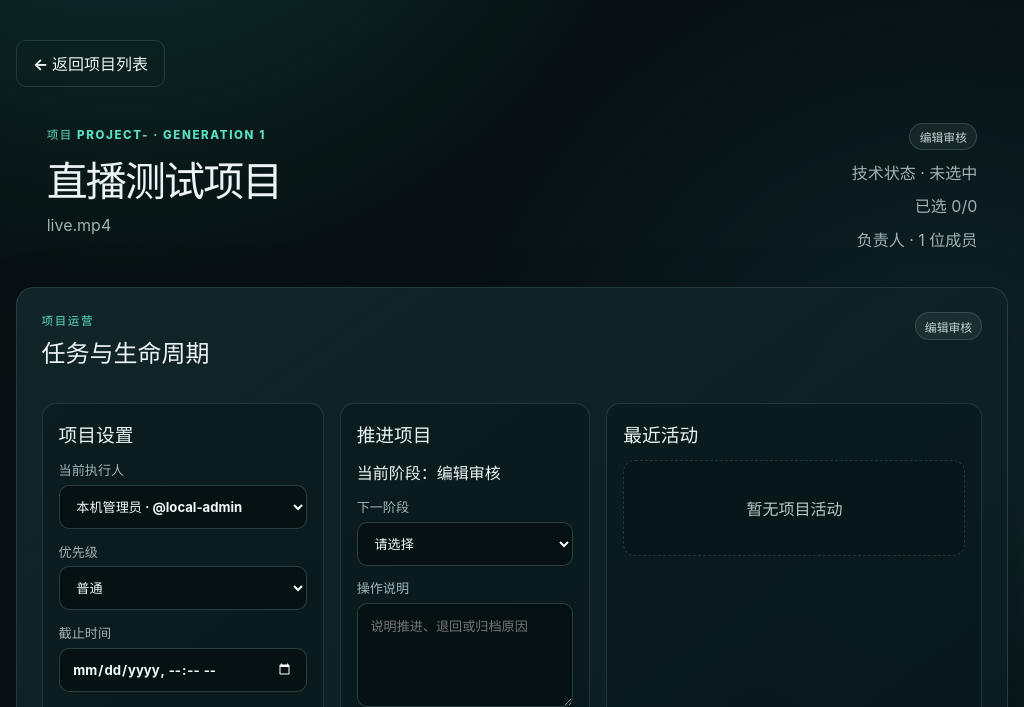
Test: lets the owner assign, prioritize and advance a project without client-side transitions
The width and height of the screenshot is (1024, 707).
Check: the heading "任务与生命周期" is shown, box top-left (42, 334), bottom-right (210, 369)
Select "紧急" in the dropdown labelled "优先级" at (183,588), box top-left (59, 566), bottom-right (307, 610)
(page scrolled)
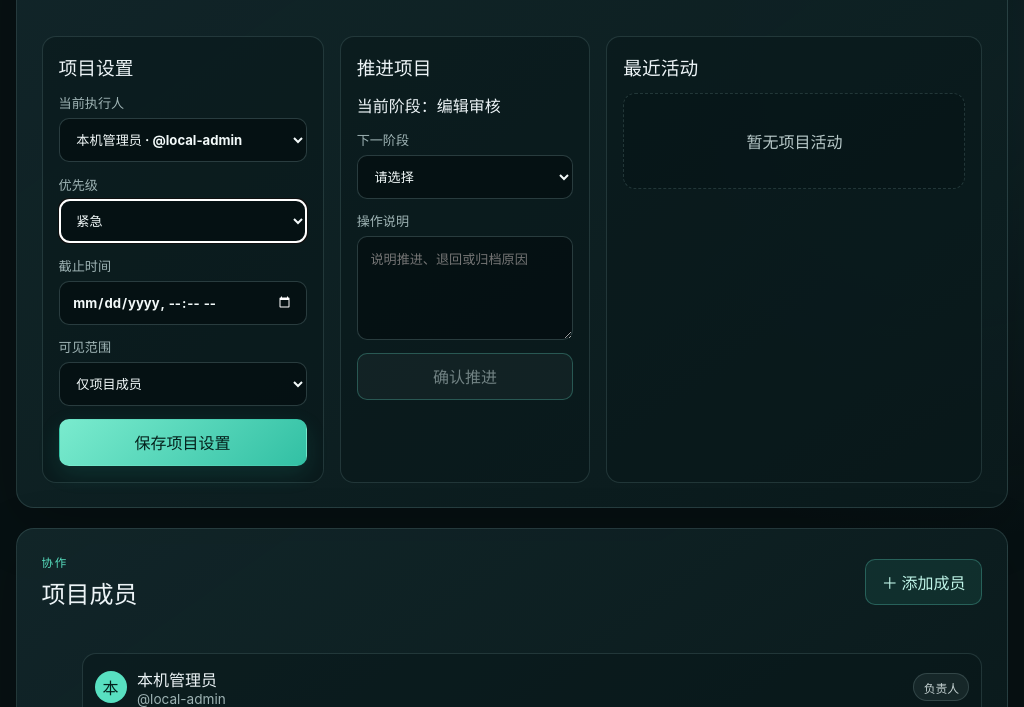
Select "工作区成员可查看" in the dropdown labelled "可见范围" at (183,384), box top-left (59, 362), bottom-right (307, 406)
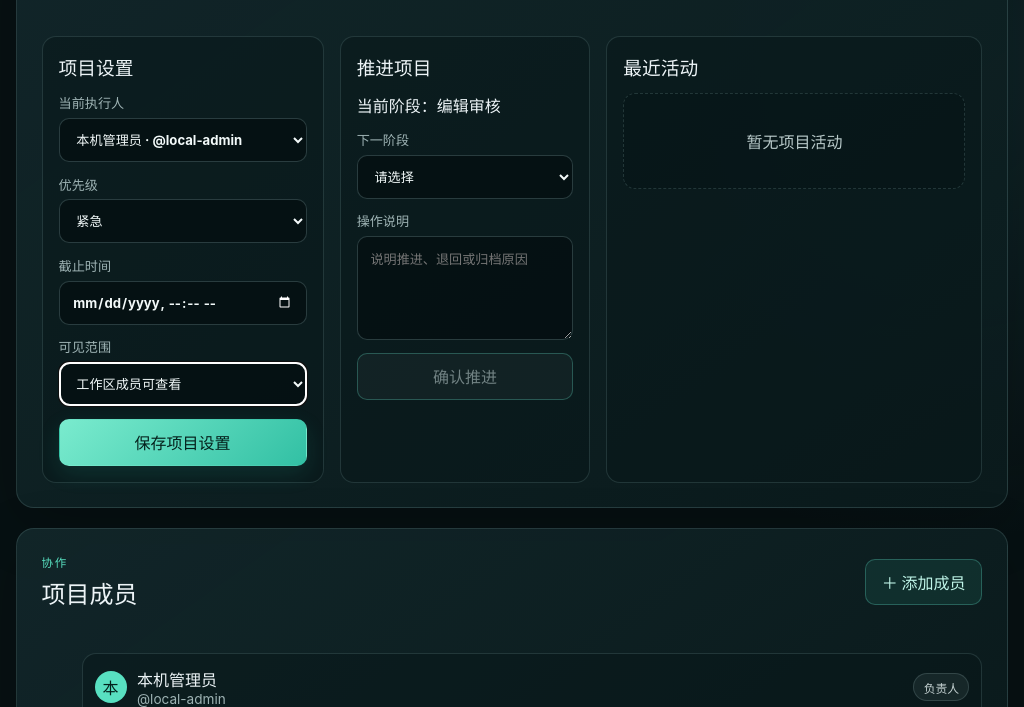
Click the button "保存项目设置".
click(183, 442)  # box top-left (59, 419), bottom-right (307, 466)
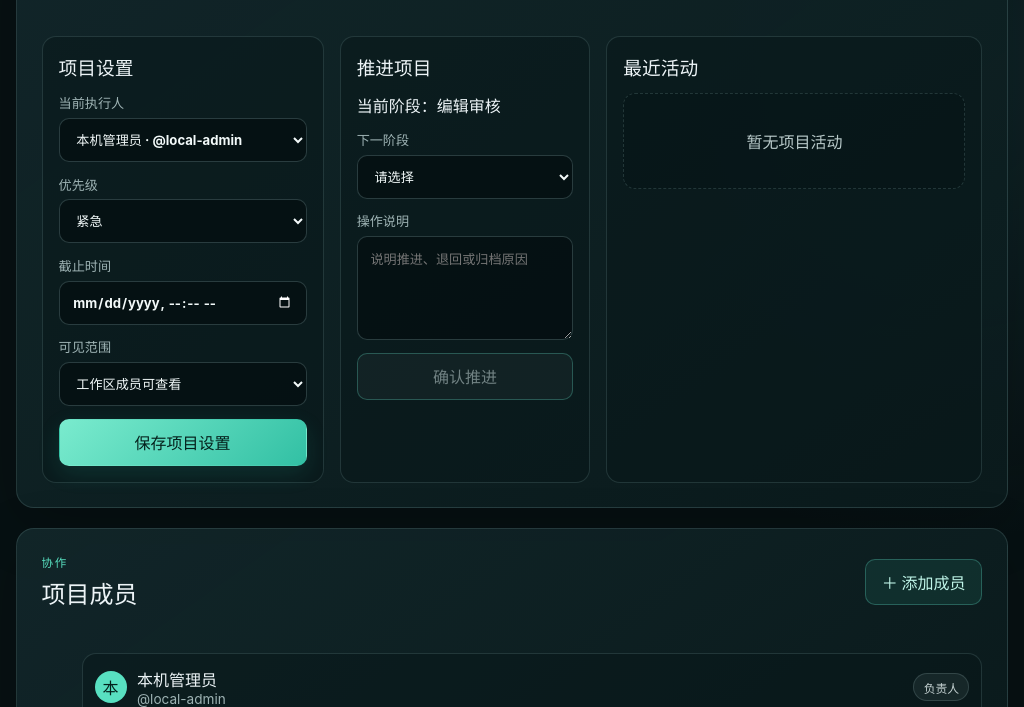
Select "终审" in the dropdown labelled "下一阶段" at (465,177), box top-left (357, 155), bottom-right (573, 199)
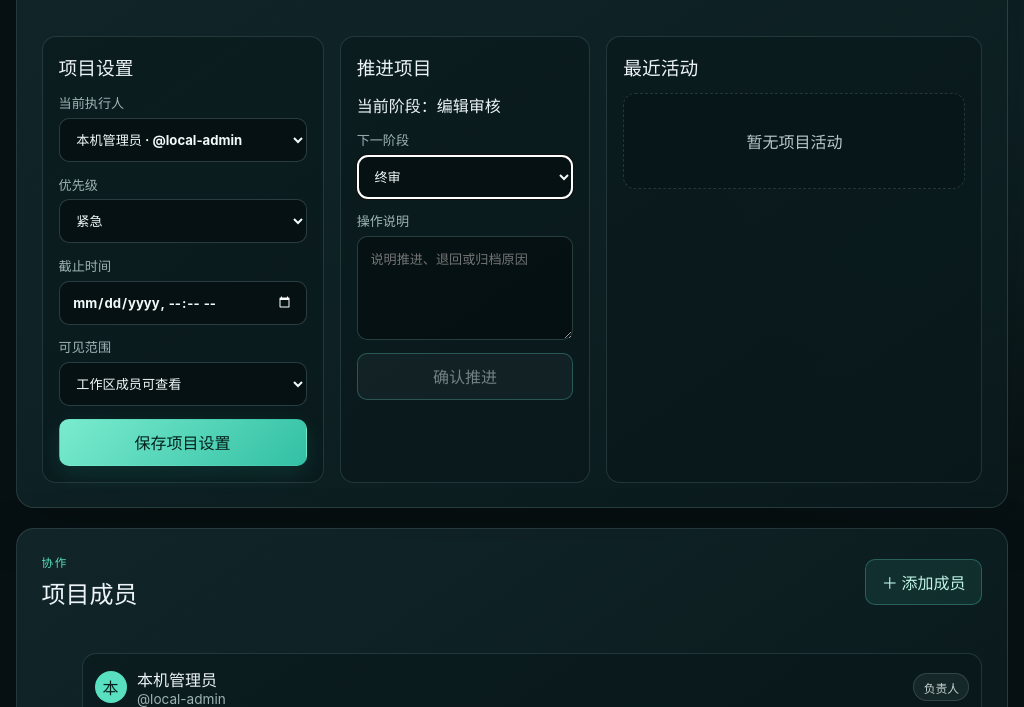
Type "内容已完成编辑审核" into the text box labelled "操作说明".
click(465, 288); type("内容已完成编辑审核")  # box top-left (357, 236), bottom-right (573, 340)
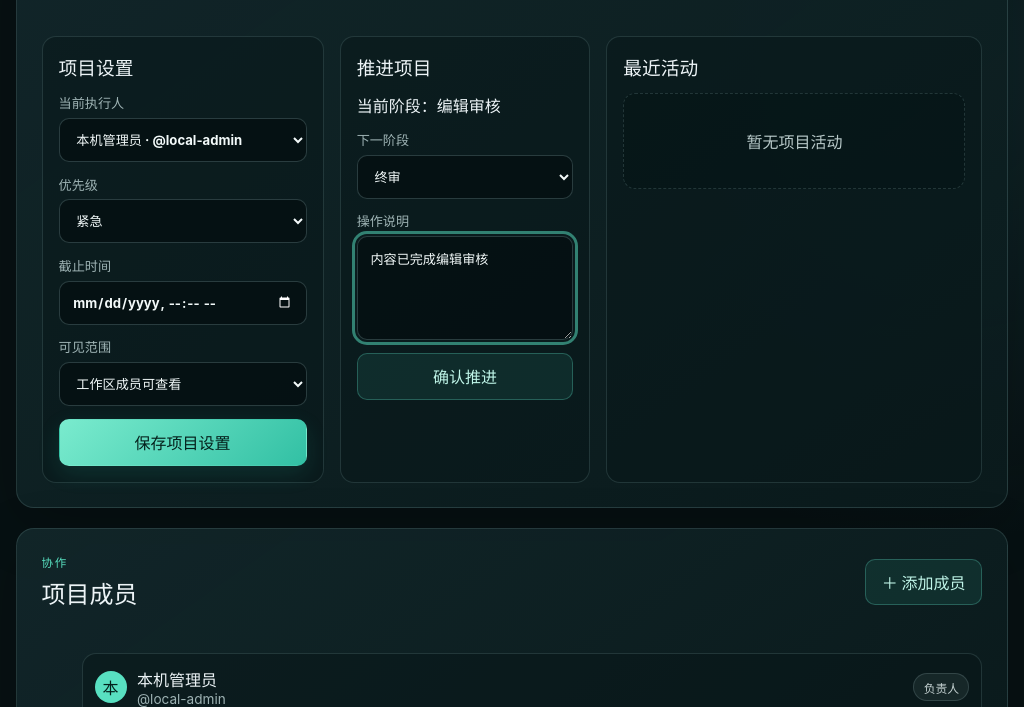
Click the button "确认推进".
click(465, 376)  # box top-left (357, 353), bottom-right (573, 400)
(page scrolled)
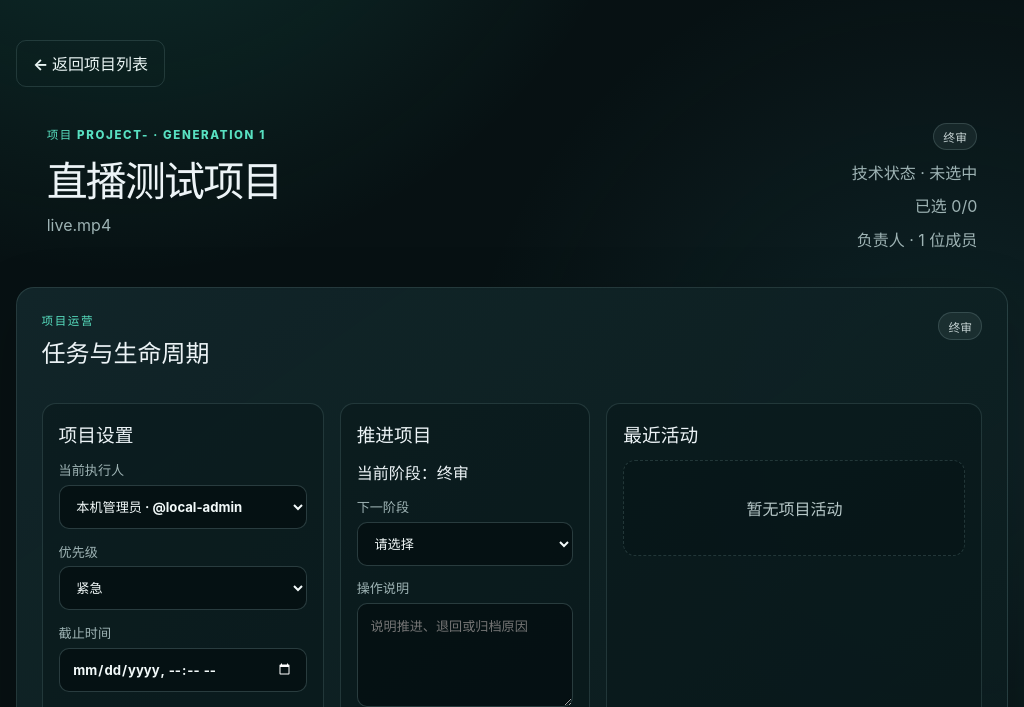
Check: the text "终审" in the row of "· generation" is shown, box top-left (943, 131), bottom-right (967, 145)
